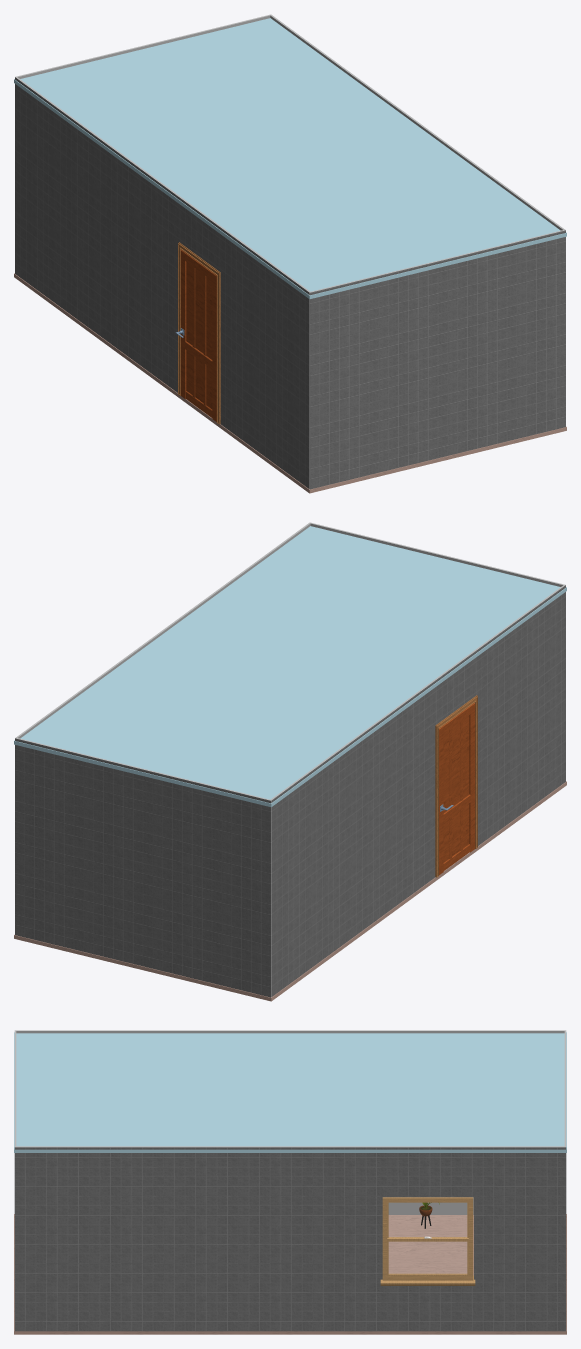
The model's file is ProcTHOR-Train-39.glb.
3 views of the same model, one above another, from view 1: azimuth 30°, elevation 25°; view 2: azimuth 150°, elevation 25°; view 3: azimuth 270°, elevation 25° (orthographic). The views are drawn at different scales.
Parts seen in each view (by area): view 1: Ceiling#room|2|c, WallInside#wall|exterior|3.69|0.00|3.69|7.38, WallInside#wall|exterior|0.00|7.38|3.69|7.38, Doorway_10, Floor#room|2|f, WallInside#wall|2|0.00|0.00|0.00|7.38, WallInside#wall|2|0.00|0.00|3.69|0.00; view 2: Ceiling#room|2|c, WallInside#wall|exterior|3.69|0.00|3.69|7.38, WallInside#wall|exterior|0.00|0.00|3.69|0.00, Doorway_10, Floor#room|2|f, WallInside#wall|2|0.00|0.00|0.00|7.38, WallInside#wall|2|0.00|7.38|3.69|7.38; view 3: WallInside#wall|exterior|0.00|0.00|0.00|7.38, Ceiling#room|2|c, Floor#room|2|f, Window_Hung_48x44, WallInside#wall|2|3.69|0.00|3.69|7.38, WallInside#wall|2|0.00|0.00|0.00|7.38, WallInside#wall|exterior|3.69|0.00|3.69|7.38.
Boxes of the visible parts, x1,y1,x2,y2 form: Ceiling#room|2|c: (14,18,566,299); WallInside#wall|exterior|3.69|0.00|3.69|7.38: (15,77,309,489); WallInside#wall|exterior|0.00|7.38|3.69|7.38: (310,230,565,489); Doorway_10: (175,242,220,424); Floor#room|2|f: (14,273,566,493); WallInside#wall|2|0.00|0.00|0.00|7.38: (270,14,564,230); WallInside#wall|2|0.00|0.00|3.69|0.00: (16,15,271,78); Ceiling#room|2|c: (14,526,566,807); WallInside#wall|exterior|3.69|0.00|3.69|7.38: (271,585,565,997); WallInside#wall|exterior|0.00|0.00|3.69|0.00: (15,738,270,997); Doorway_10: (435,695,477,877); Floor#room|2|f: (14,781,566,1001); WallInside#wall|2|0.00|0.00|0.00|7.38: (16,523,310,738); WallInside#wall|2|0.00|7.38|3.69|7.38: (309,523,564,586); WallInside#wall|exterior|0.00|0.00|0.00|7.38: (14,1146,566,1331); Ceiling#room|2|c: (14,1032,566,1152); Floor#room|2|f: (14,1214,566,1334); Window_Hung_48x44: (380,1197,475,1285); WallInside#wall|2|3.69|0.00|3.69|7.38: (15,1030,565,1214); WallInside#wall|2|0.00|0.00|0.00|7.38: (15,1146,565,1146); WallInside#wall|exterior|3.69|0.00|3.69|7.38: (16,1030,564,1030).
Bounding box in the file's own units: 3.93 × 2.77 × 7.42.
Materials: 64 (36 with a texture image).
